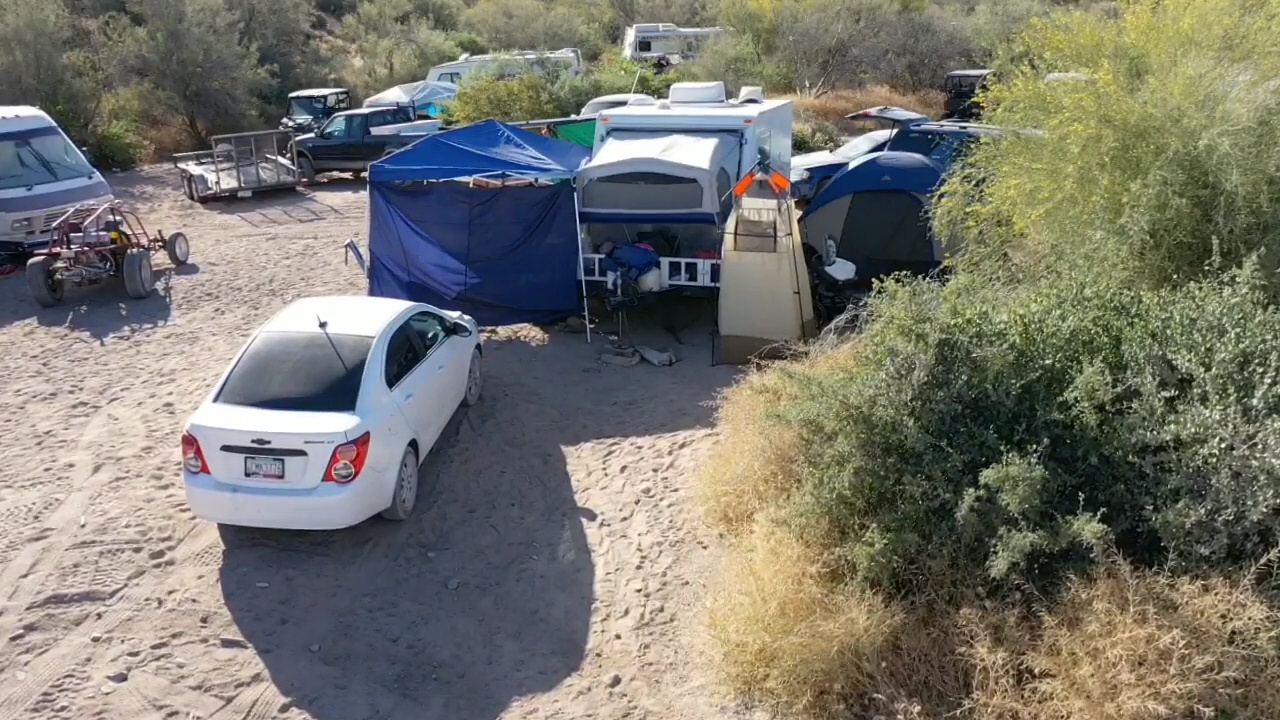araba: (176, 293, 488, 532)
kamyonet: (282, 96, 459, 188)
otobus: (1, 92, 123, 259)
